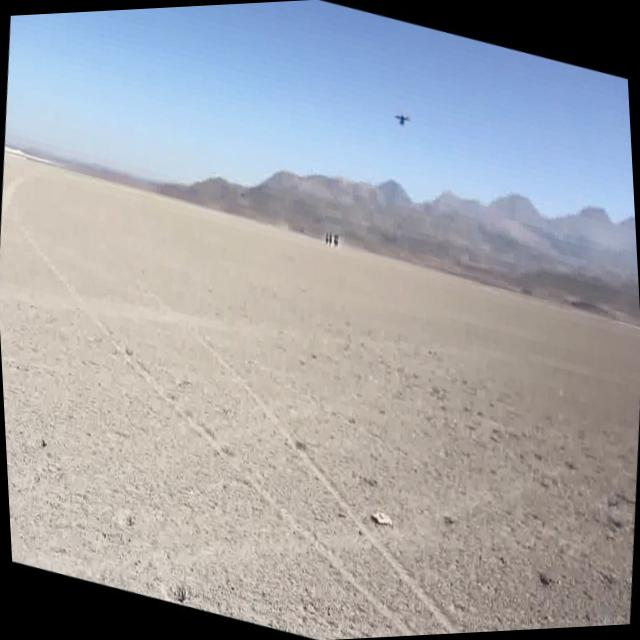drone: (390, 106, 417, 138)
